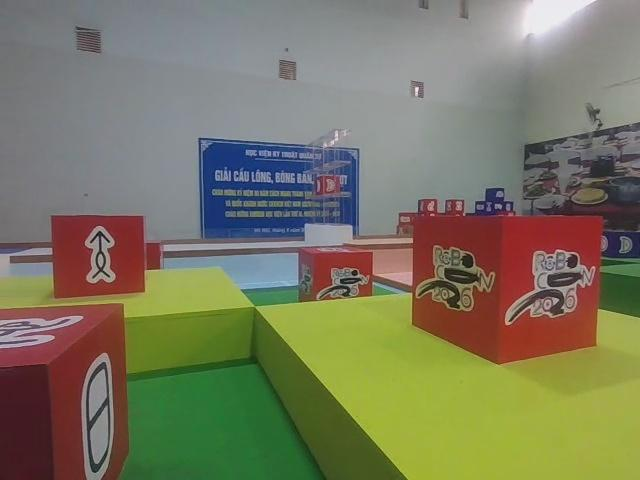R1: (410, 209, 605, 368), (294, 242, 377, 312)
R2 Fake: (1, 301, 133, 480)
R2 Real: (49, 211, 147, 301)
